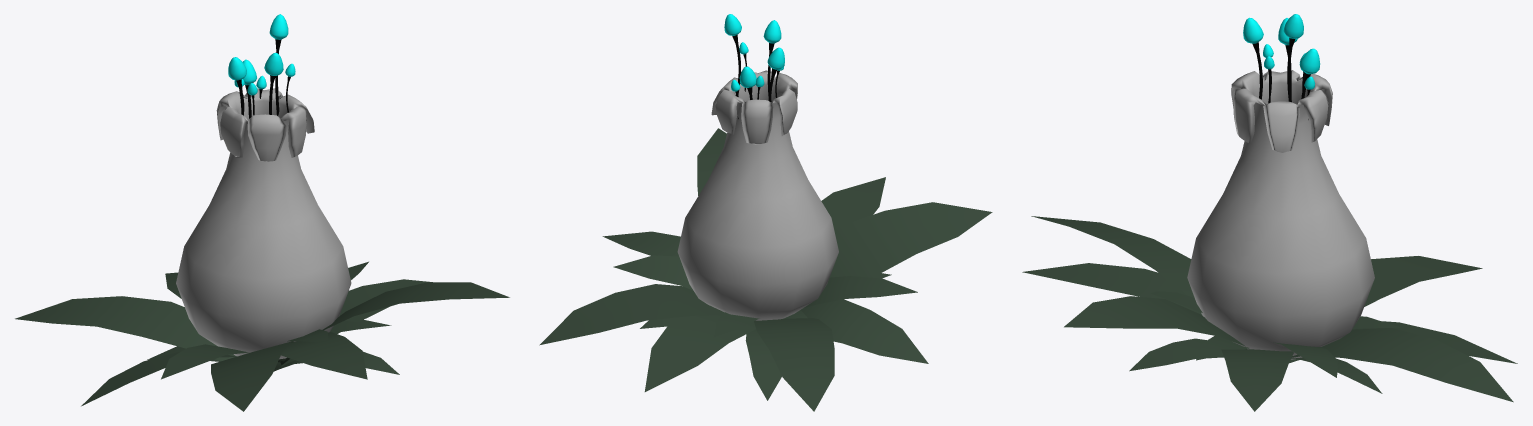
Rendered from fruit.fbx.
3 views of the same model, side by side, from view 1: azimuth 30°, elevation 25°; view 2: azimuth 150°, elevation 25°; view 3: azimuth 270°, elevation 25° (orthographic). The views are drawn at different scales.
Parts seen in each view (by area): view 1: pCylinder14, pPlane19, pPlane20, pCylinder25, pCylinder27, pCylinder24; view 2: pCylinder14, pPlane20, pPlane19, pCylinder25, pCylinder27, pCylinder24; view 3: pCylinder14, pPlane19, pPlane20, pCylinder25, pCylinder27, pCylinder26.
Part boxes in pixels (left/top/right/bottom): pCylinder14: left=176, top=88, right=351, bottom=359; pPlane19: left=15, top=279, right=432, bottom=379; pPlane20: left=81, top=261, right=509, bottom=411; pCylinder25: left=269, top=14, right=288, bottom=115; pCylinder27: left=264, top=52, right=283, bottom=114; pCylinder24: left=228, top=57, right=246, bottom=115; pCylinder14: left=677, top=70, right=838, bottom=320; pPlane20: left=613, top=128, right=992, bottom=400; pPlane19: left=539, top=177, right=917, bottom=411; pCylinder25: left=724, top=14, right=741, bottom=96; pCylinder27: left=763, top=20, right=781, bottom=101; pCylinder24: left=767, top=47, right=784, bottom=101; pCylinder14: left=1187, top=70, right=1374, bottom=359; pPlane19: left=1022, top=256, right=1513, bottom=411; pPlane20: left=1031, top=216, right=1517, bottom=393; pCylinder25: left=1283, top=14, right=1303, bottom=102; pCylinder27: left=1243, top=17, right=1263, bottom=99; pCylinder26: left=1299, top=48, right=1320, bottom=98.
Size of the model in its own units: 5.41 by 5.17 by 5.94.
